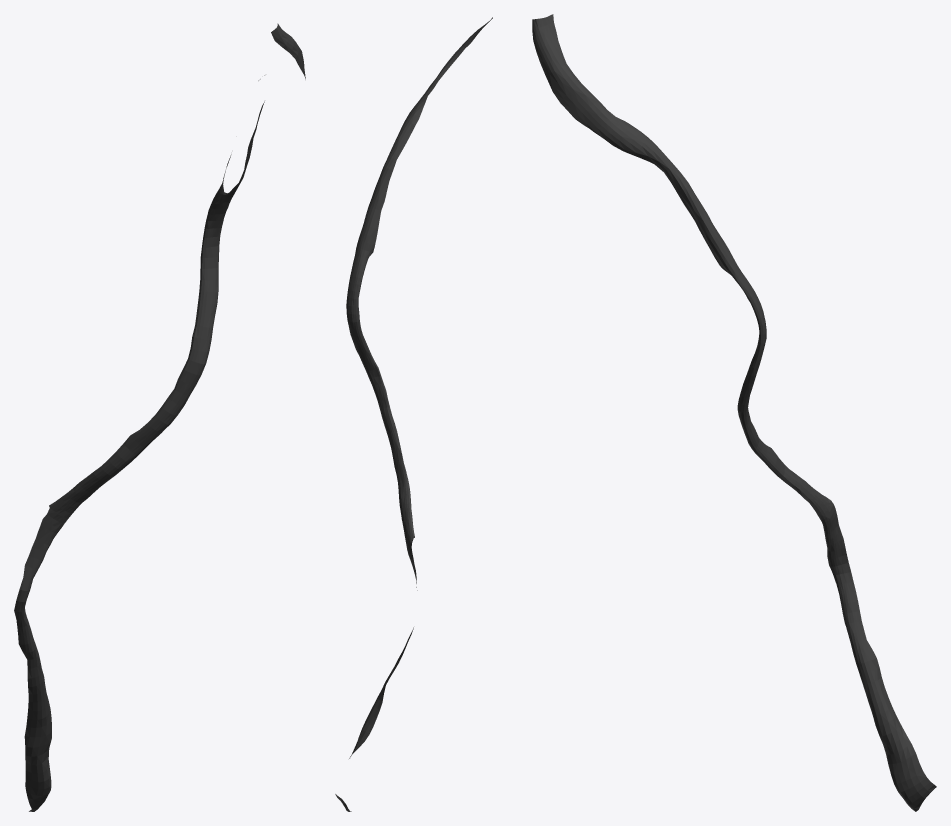
Rendered from eq_dist_limb_Lat_Digital_Nerve.glb.
3 renders of one model, left to right at view 1: azimuth 30°, elevation 25°; view 2: azimuth 150°, elevation 25°; view 3: azimuth 270°, elevation 25°, orthographic. The views are drawn at different scales.
Visible parts, largest first — view 1: eq_dist_limb_Lat_Digital_Nerve; view 2: eq_dist_limb_Lat_Digital_Nerve; view 3: eq_dist_limb_Lat_Digital_Nerve.
Boxes of the visible parts, box(x1,y1,x2,y2) form: eq_dist_limb_Lat_Digital_Nerve: box(14, 23, 305, 811); eq_dist_limb_Lat_Digital_Nerve: box(335, 17, 492, 811); eq_dist_limb_Lat_Digital_Nerve: box(532, 14, 936, 811).
Bounding box in the file's own units: 0.00347 × 0.0192 × 0.00877.
Materials: 1 (1 with a texture image).
